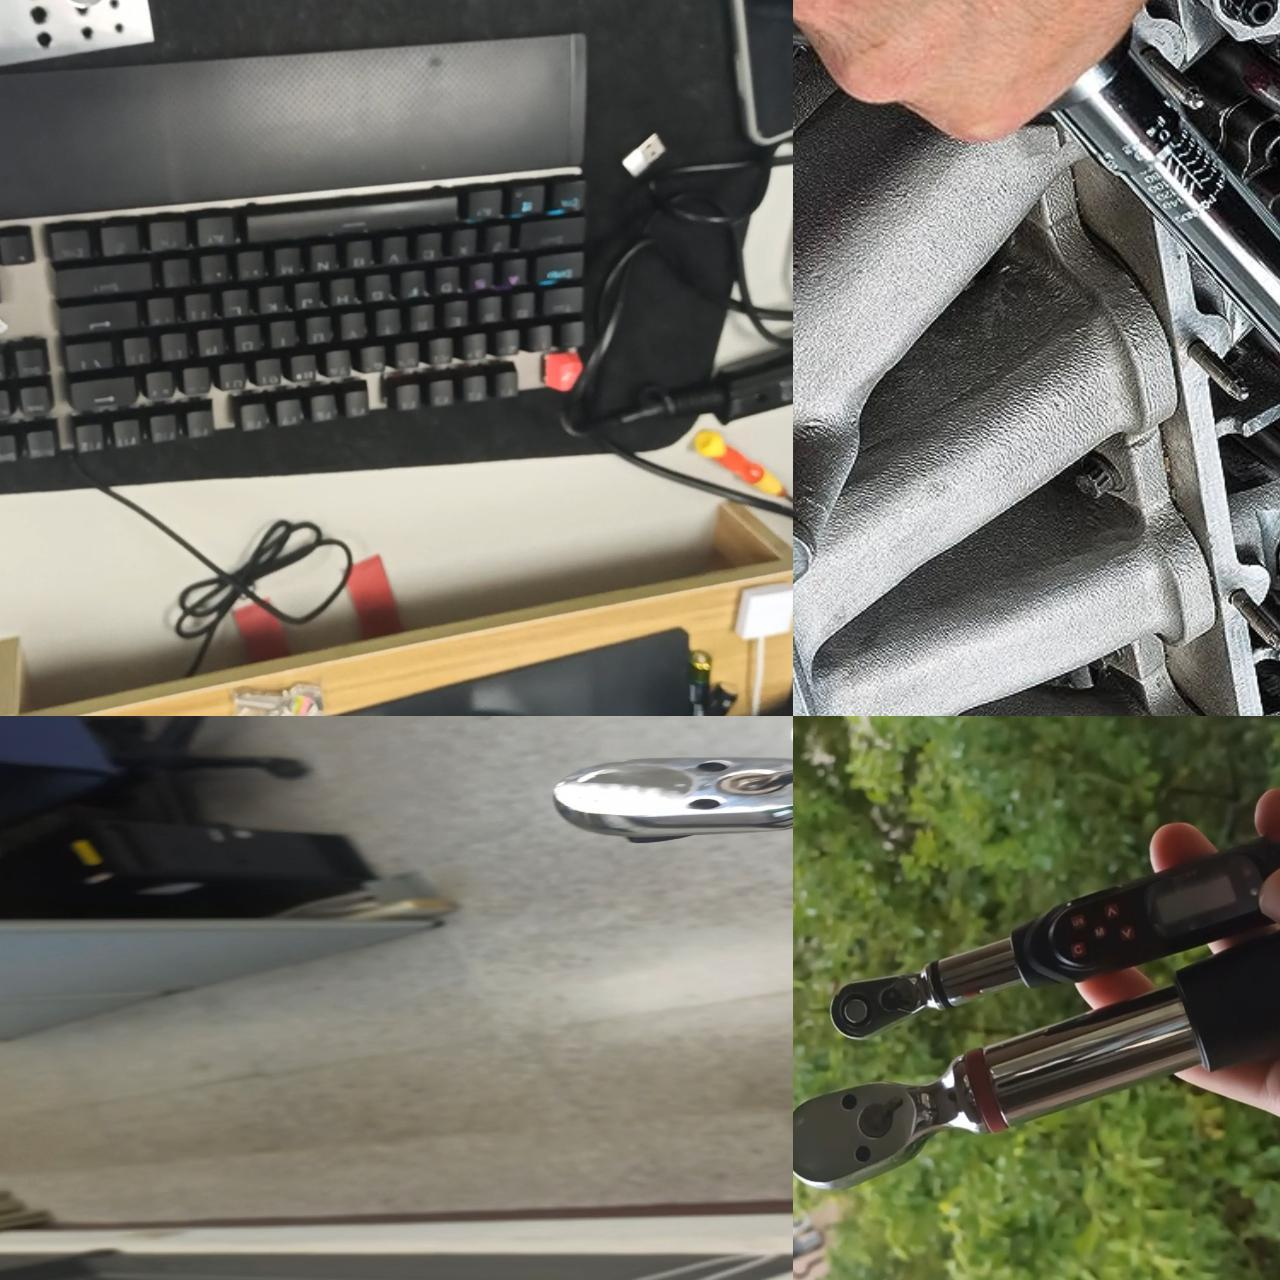Tool: (794, 1058, 983, 1194), (544, 753, 794, 853), (831, 968, 941, 1043)
